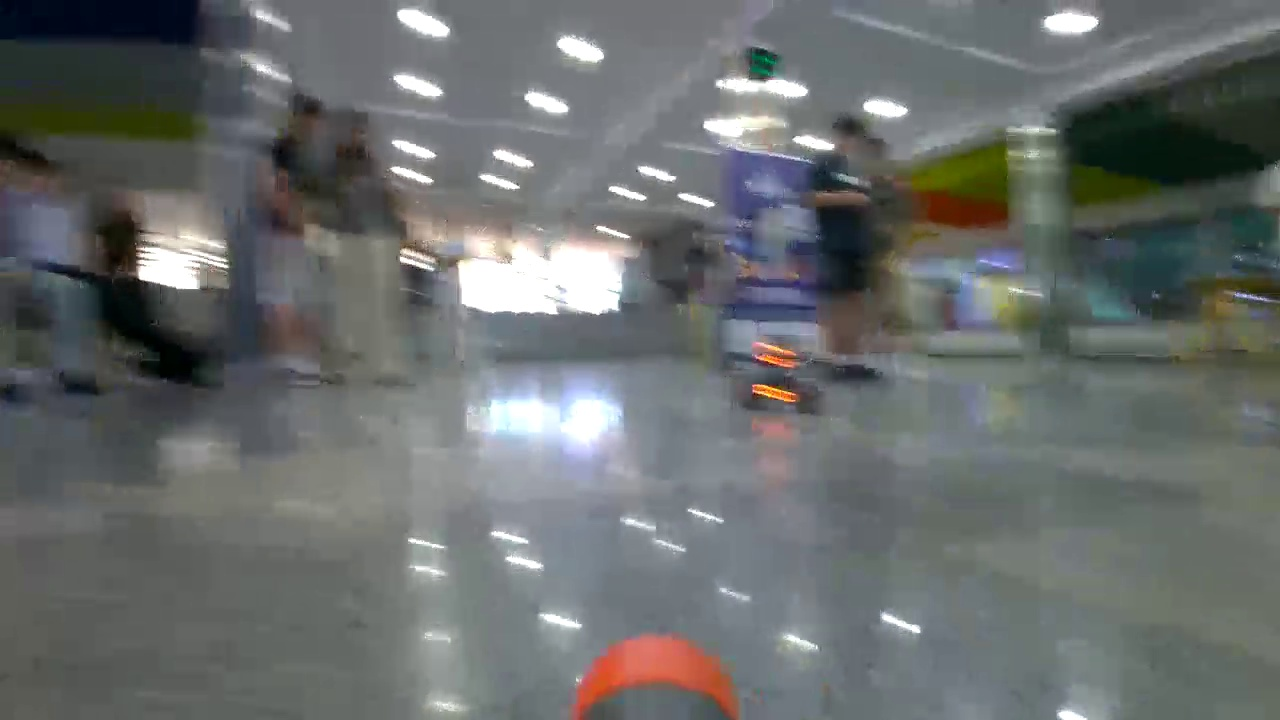robot: (742, 335, 822, 412)
